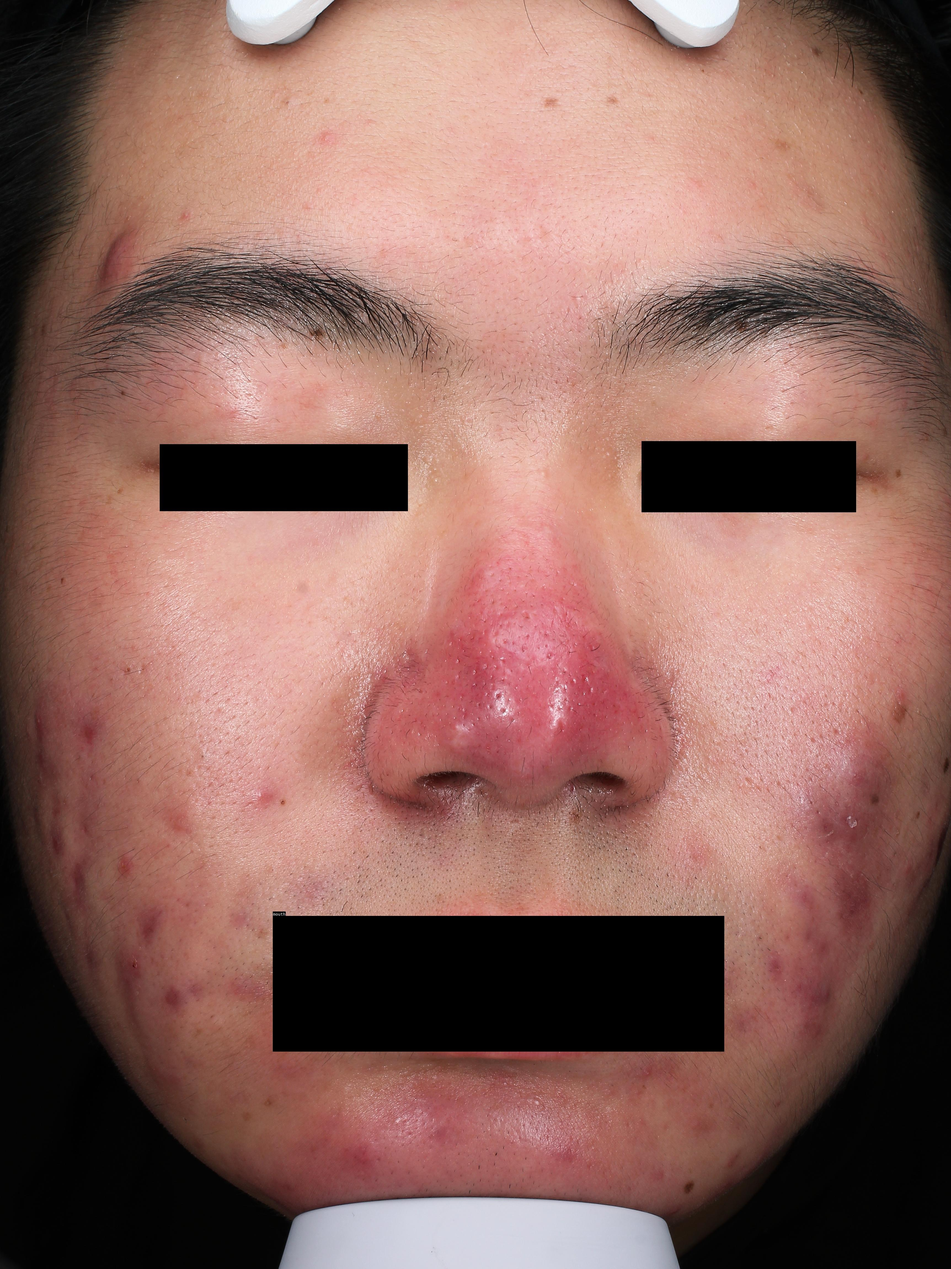atrophic_scar: (394, 645, 420, 679), (71, 861, 86, 903), (84, 939, 98, 979), (533, 220, 552, 247), (80, 809, 95, 842), (48, 787, 62, 821), (50, 829, 63, 855), (744, 776, 757, 789), (213, 707, 224, 718), (418, 827, 427, 840), (788, 705, 798, 715), (776, 834, 787, 843), (833, 727, 842, 736), (509, 817, 520, 824), (810, 736, 818, 743)
closed_comedo: (431, 477, 440, 486), (575, 294, 582, 302), (423, 455, 430, 463), (541, 471, 546, 477)
hypertrophic_scar: (445, 723, 469, 754)
nevus: (891, 700, 907, 724), (310, 326, 325, 342), (684, 1179, 697, 1193), (57, 573, 69, 586), (544, 99, 559, 108), (894, 467, 904, 480), (943, 757, 950, 773), (870, 794, 881, 804), (607, 95, 617, 105), (812, 47, 821, 58), (280, 798, 287, 806), (914, 810, 920, 819), (115, 487, 124, 493), (120, 390, 125, 397)
nodule: (803, 738, 895, 858), (899, 787, 947, 903), (95, 228, 137, 289)
open_comedo: (281, 97, 292, 108), (122, 665, 133, 676), (268, 865, 277, 873), (200, 754, 205, 760)
papule: (119, 953, 144, 979), (250, 787, 275, 809), (117, 852, 138, 876), (33, 709, 47, 744), (162, 988, 180, 1007), (820, 985, 833, 1007), (725, 1152, 740, 1169), (893, 687, 907, 699), (25, 723, 32, 740), (641, 1068, 651, 1079), (181, 211, 191, 220), (861, 452, 870, 462), (323, 134, 330, 142)
pustule: (532, 1097, 542, 1106)
